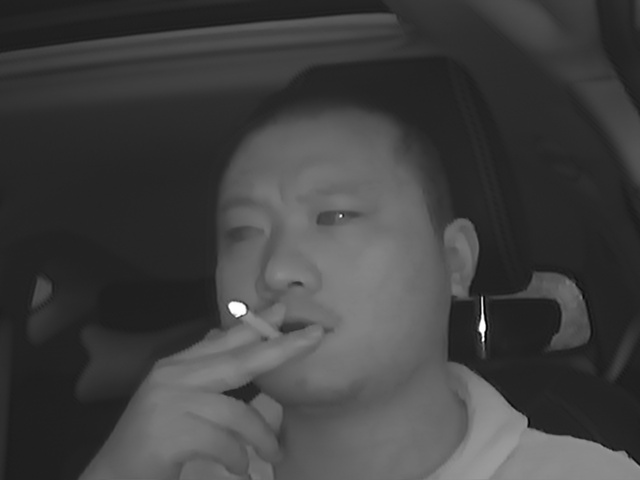hand: (146, 294, 329, 476)
